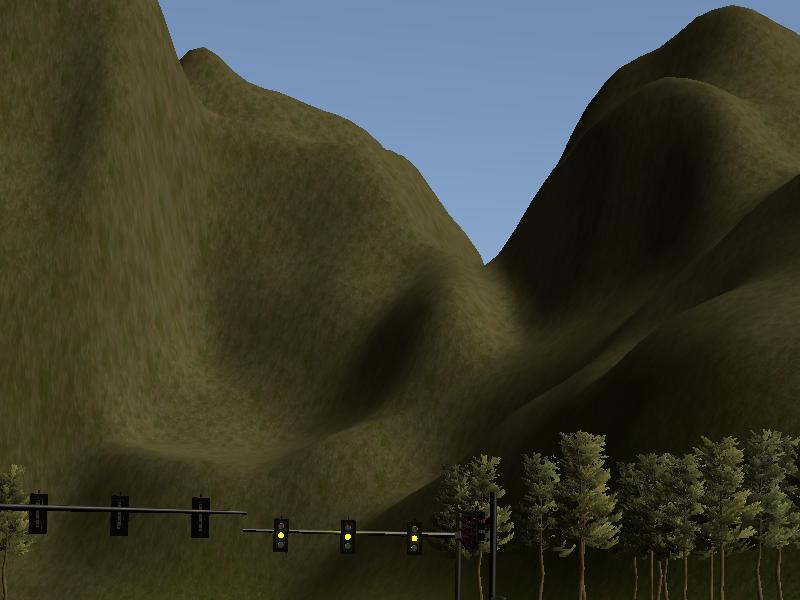Yellow: (271, 514, 290, 554), (338, 517, 357, 557), (404, 520, 422, 559)
